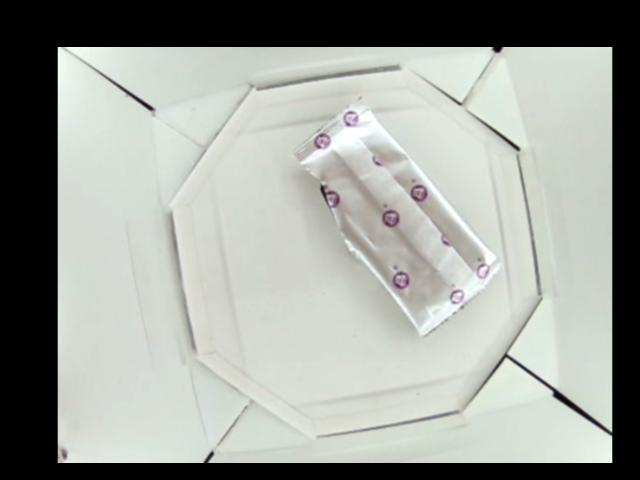Medicine: (295, 95, 501, 338)
